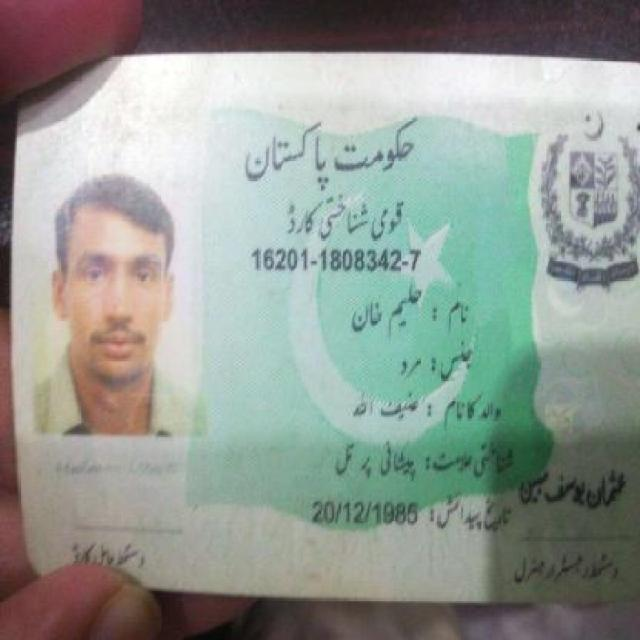Front: (14, 44, 638, 610)
